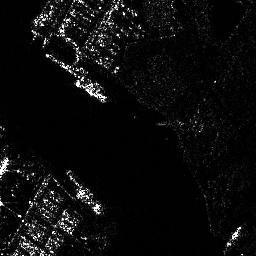ship: (65, 168, 104, 215), (74, 80, 107, 104)
